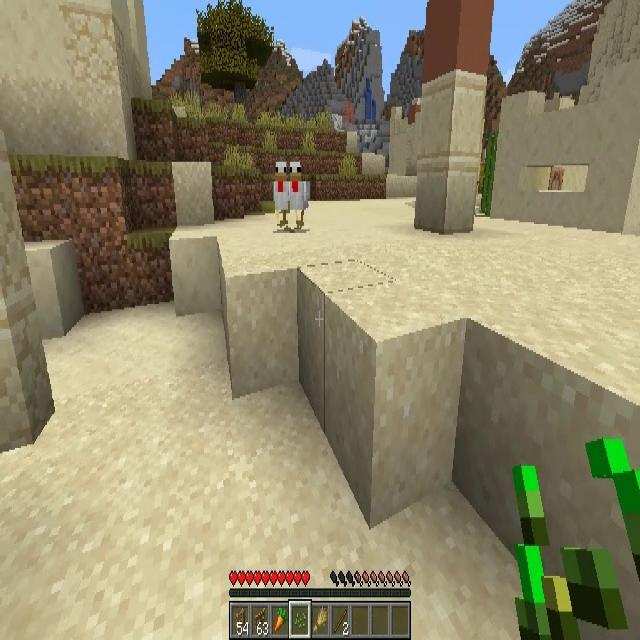duck: (290, 162, 312, 230), (275, 160, 290, 224)
